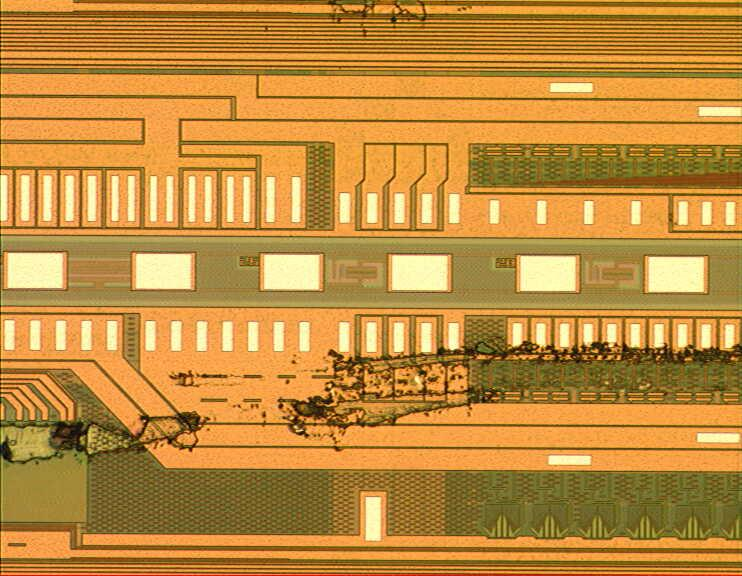SCRATCH: (1, 330, 742, 471)
